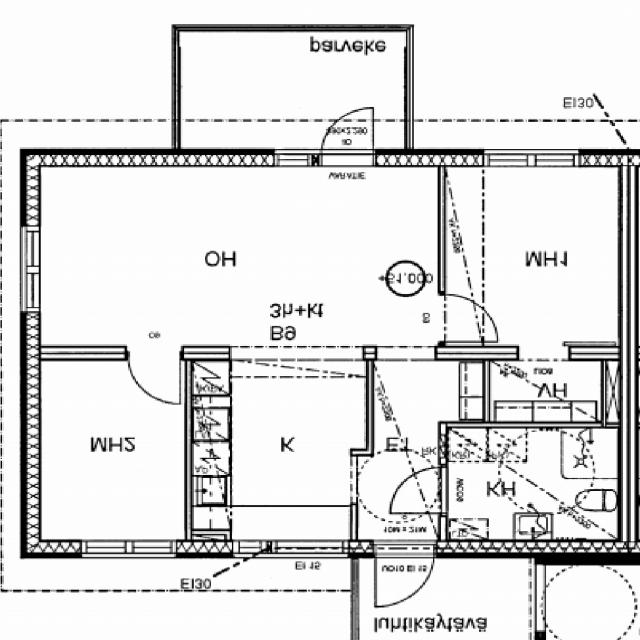door: (374, 542, 436, 615), (127, 346, 181, 411), (321, 102, 374, 167), (388, 467, 448, 515), (438, 294, 498, 342)
